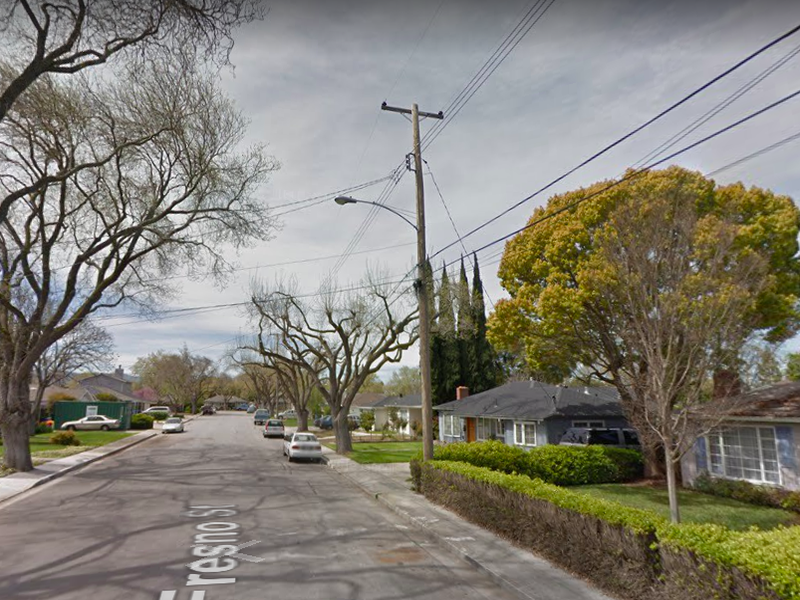tree: (483, 163, 800, 478)
utility_pole: (375, 90, 451, 182)
